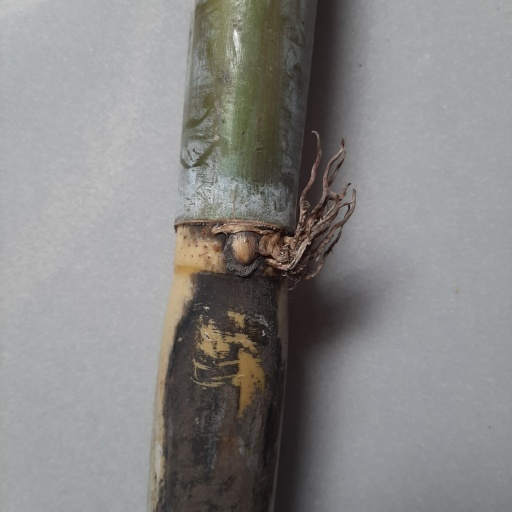Bud: (230, 231, 258, 266)
